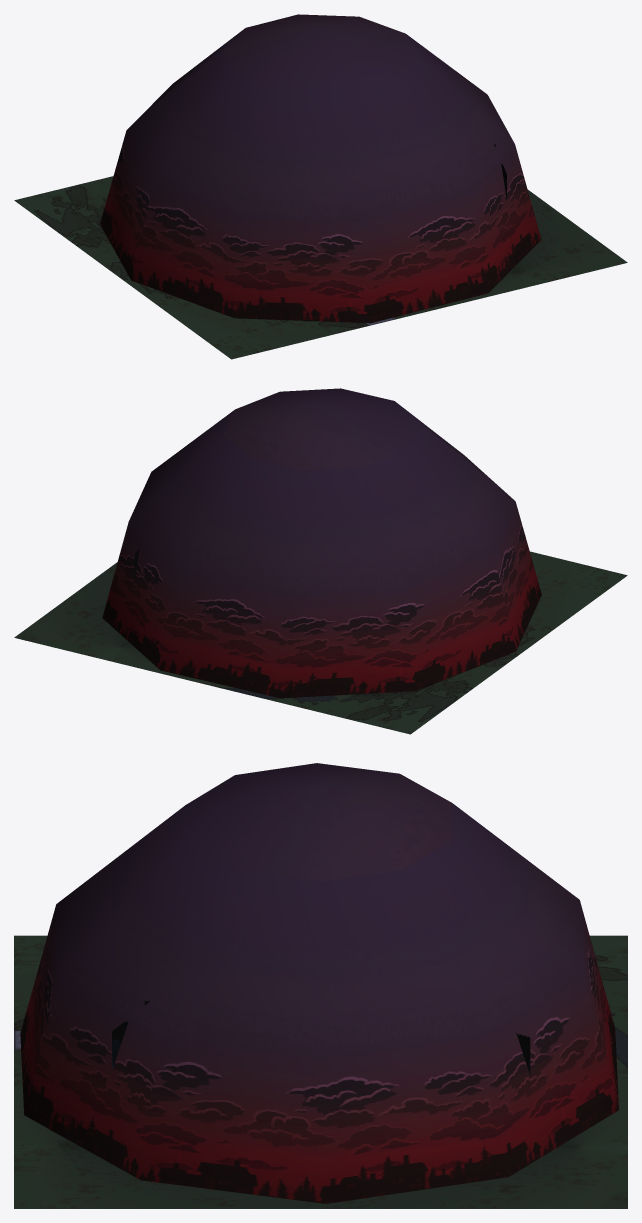
File: Cemetery_2011-6-27.FBX
3 renders of one model, top to bottom at view 1: azimuth 30°, elevation 25°; view 2: azimuth 150°, elevation 25°; view 3: azimuth 270°, elevation 25°, orthographic. The views are drawn at different scales.
Visible parts, largest first — view 1: Object01, Object02; view 2: Object01, Object02; view 3: Object01, Object02, Plane01.
Boxes of the visible parts, left/top/right/bottom form: Object01: left=100, top=14, right=541, bottom=323; Object02: left=14, top=176, right=627, bottom=359; Object01: left=102, top=388, right=541, bottom=698; Object02: left=14, top=551, right=627, bottom=734; Object01: left=20, top=763, right=618, bottom=1203; Object02: left=14, top=935, right=627, bottom=1208; Plane01: left=112, top=1001, right=530, bottom=1075.
Size of the model in its own units: 140 by 133 by 69.2.
